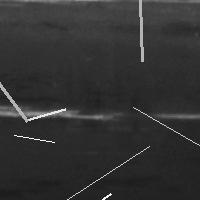scratches: (61, 141, 154, 200), (128, 102, 200, 150), (1, 100, 123, 124), (0, 60, 32, 126), (21, 104, 70, 125), (36, 189, 115, 200), (134, 0, 147, 66), (9, 130, 59, 147), (151, 108, 199, 124)
